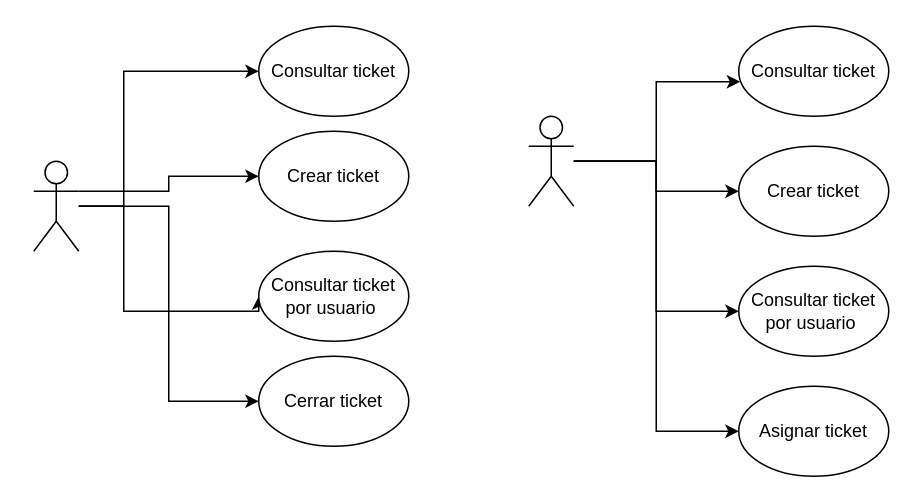
Some shapes in this 915 by 503 pixel diagram are drawn without their labels. Here are the shapes that lost their labels. From the top down, the centre of each, then its label:
At (x=550, y=160): "Administrador".
At (x=55, y=205): "Usuario".
